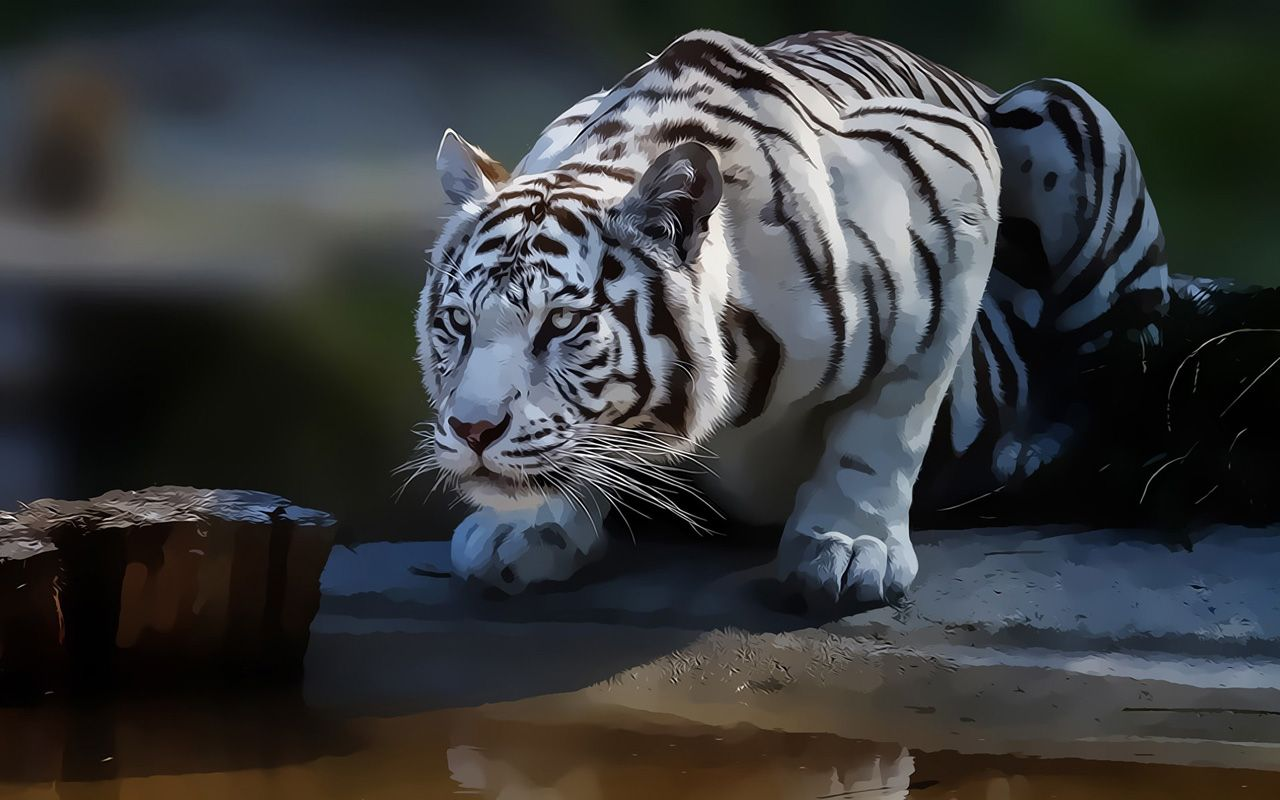Tigre: (369, 20, 1199, 594)
